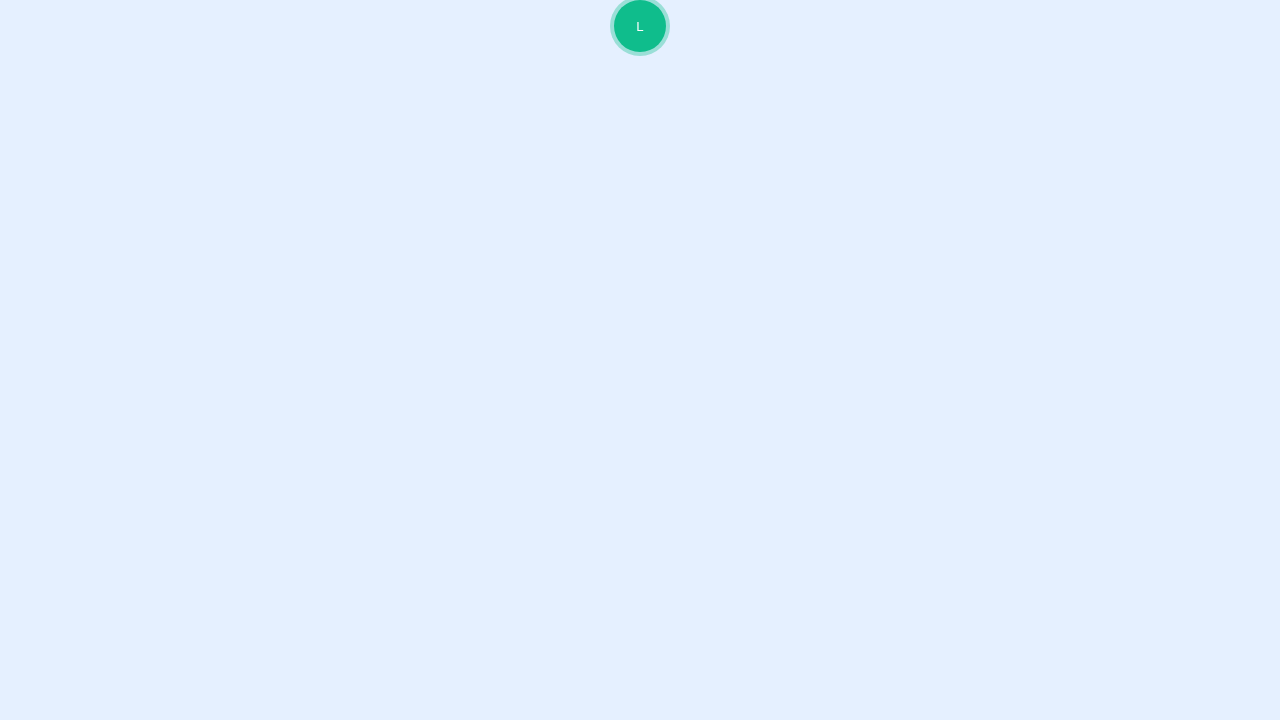
AddMenu di tablet › ketukan pertama membuka pilihan, ketukan kedua menjalankan aksi utama
Later steps or results of the test are not shown.
What coordinates should you click on to do the following:
click the button with class "kb-addmenu__main"
I would click on:
 (640, 26)
Its box is 614,0 -> 666,52.
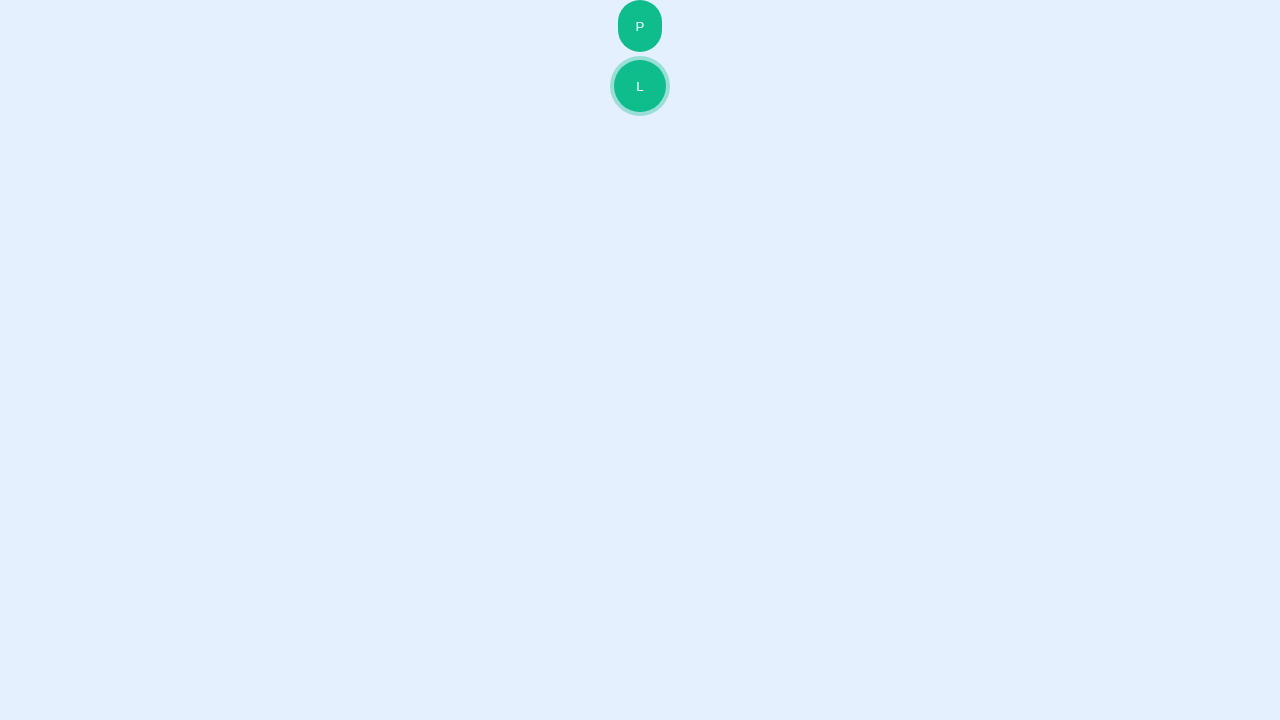
Now the menu item with class "kb-addmenu__item" is shown, box 618,4 -> 662,48
